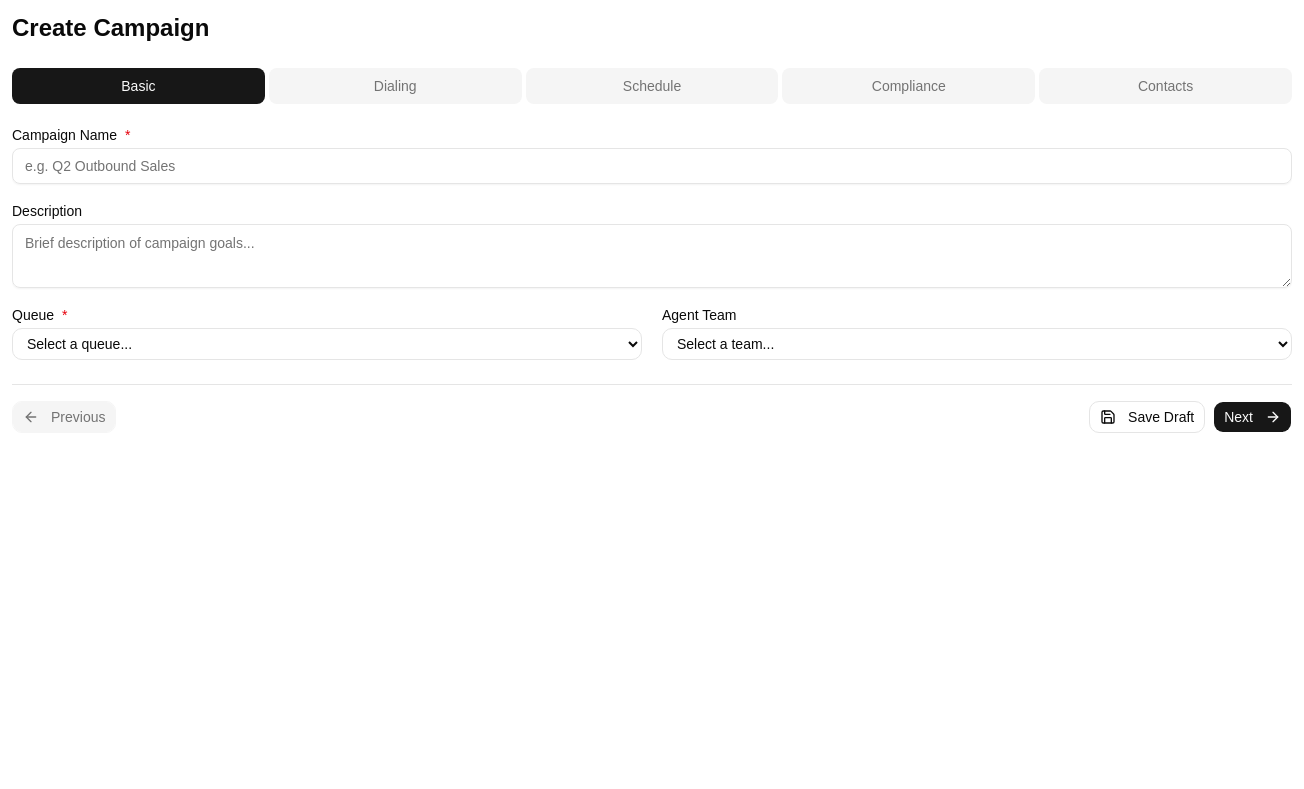
CampaignWizard target abandon rate in en-US › CampaignWizard_ShouldShowTheDialingStep_WhenTheDraftIsSavedFromAnEarlierStepWithAnInvalidAbandonRate
This screenshot has width=1304, height=789.
Step 1. Type "Q4 renewals" into the field labelled "Campaign Name *" → (652, 166), box [12,148,1292,184]
Step 2. Select "sales" in the dropdown labelled "Queue *" → (327, 344), box [12,328,642,360]
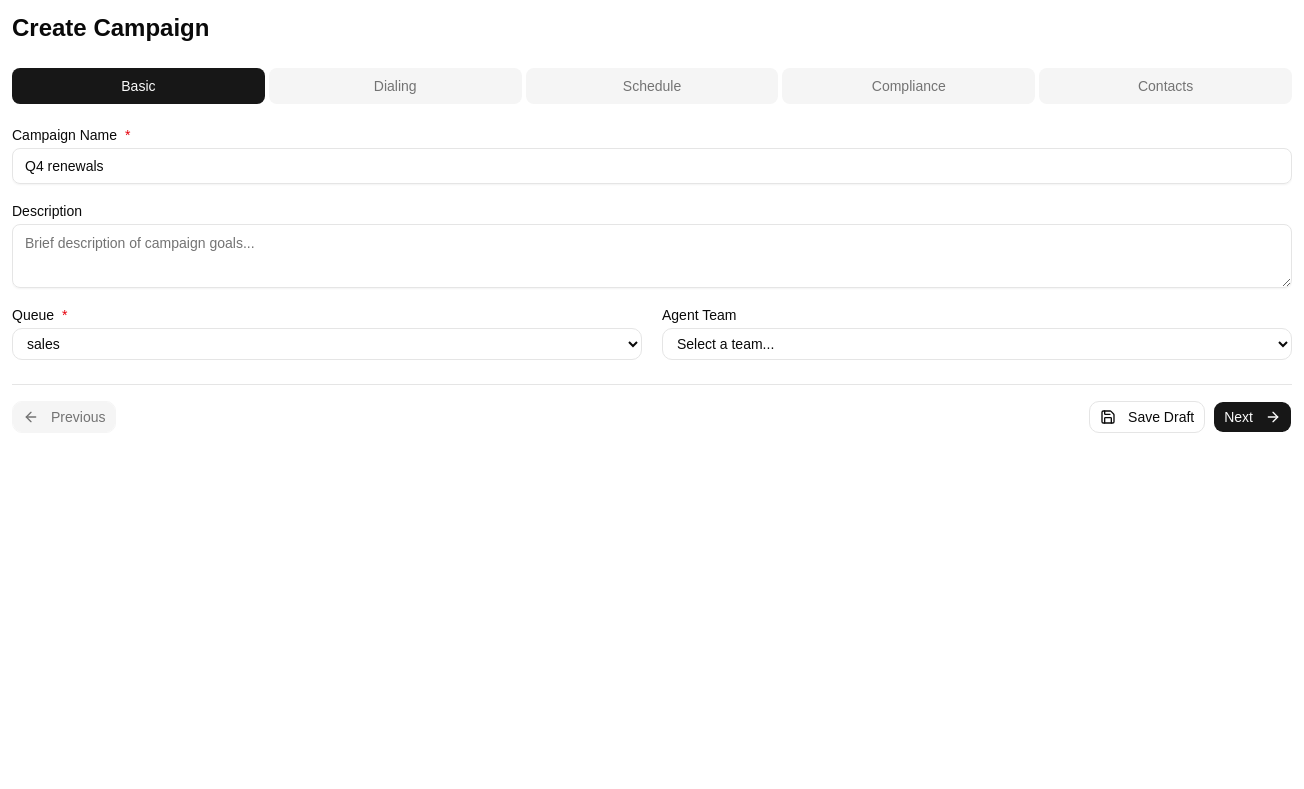
Step 3. Click the button with test id "campaign-wizard-next" → (1253, 417), box [1213,401,1292,433]
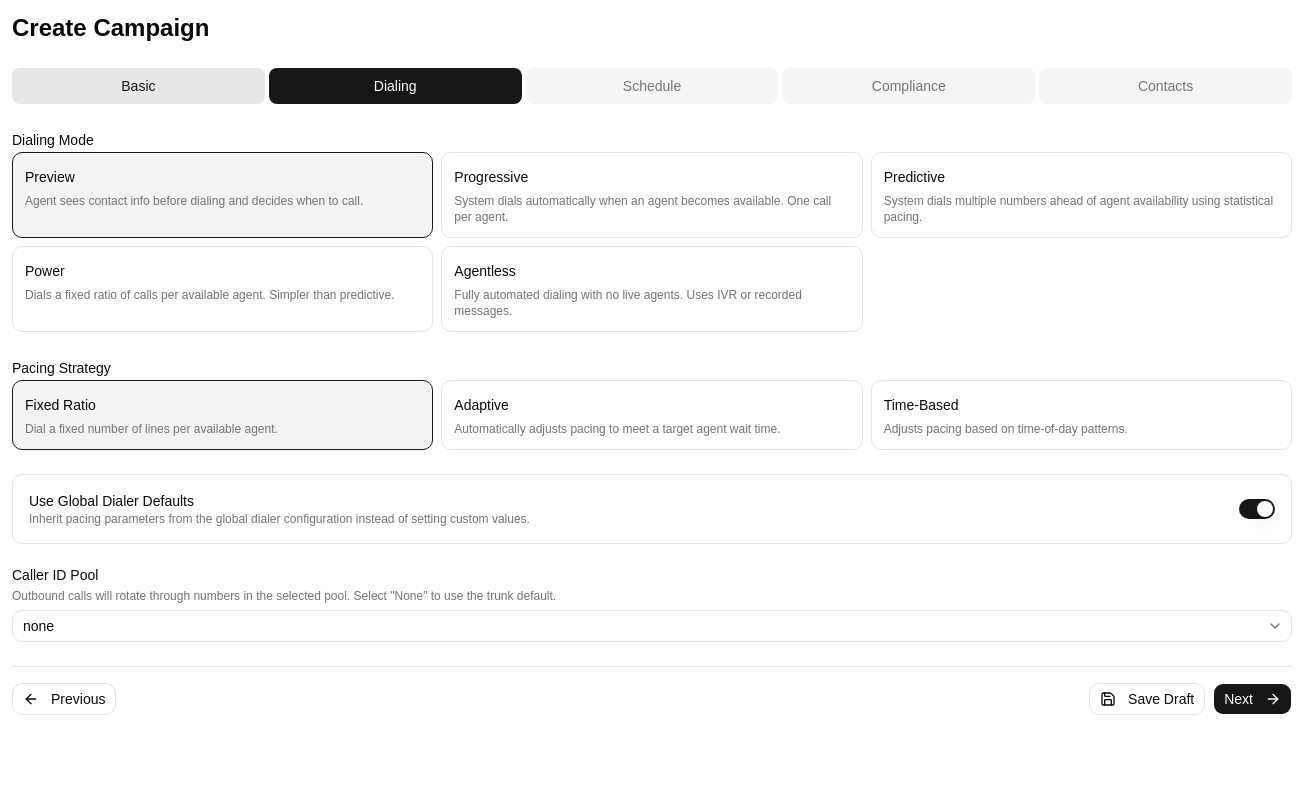
Step 4. Click the radio button that starts with "Predictive" → (1081, 195), box [871,152,1292,238]
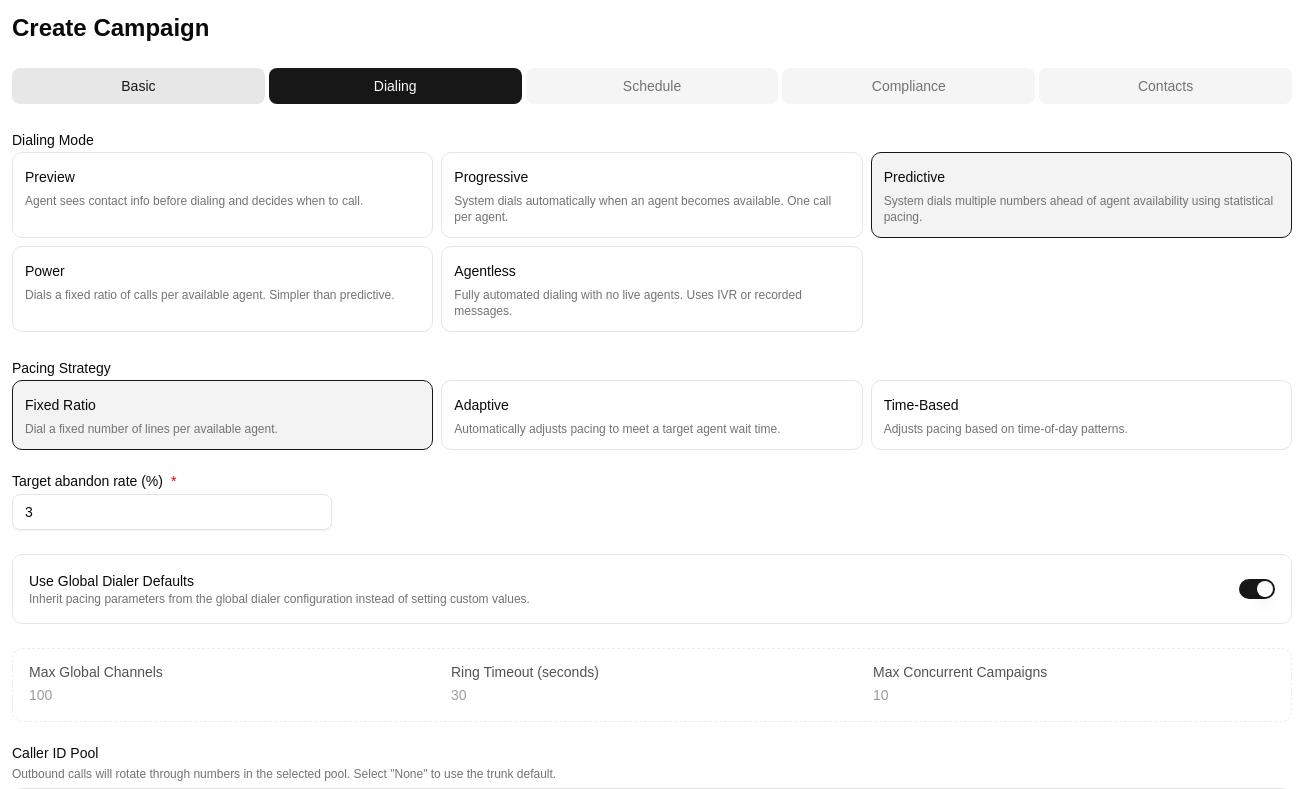
Step 5. Replace the text in the number field labelled "Target abandon rate (%) *" with "0.05" → (172, 512), box [12,494,332,530]
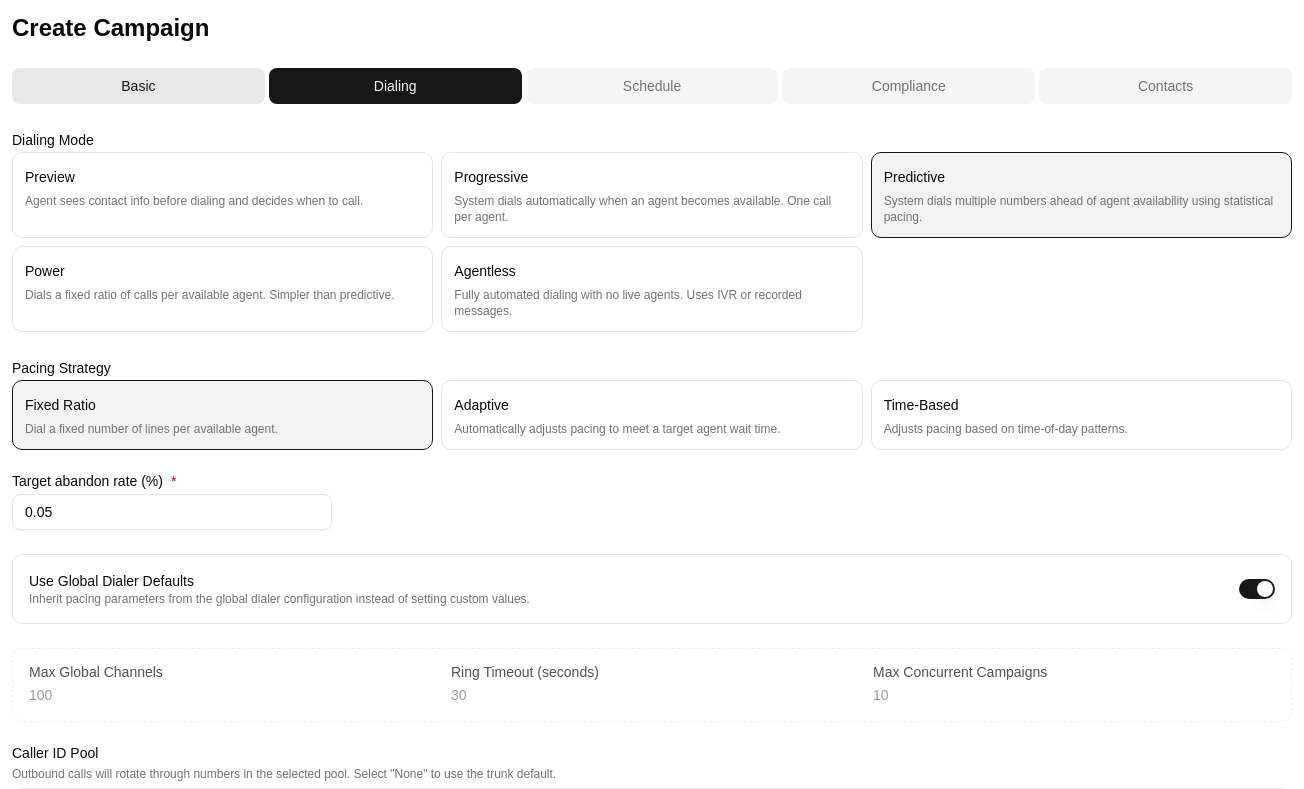
Step 6. Click the button "Basic" → (138, 86), box [12,68,265,104]
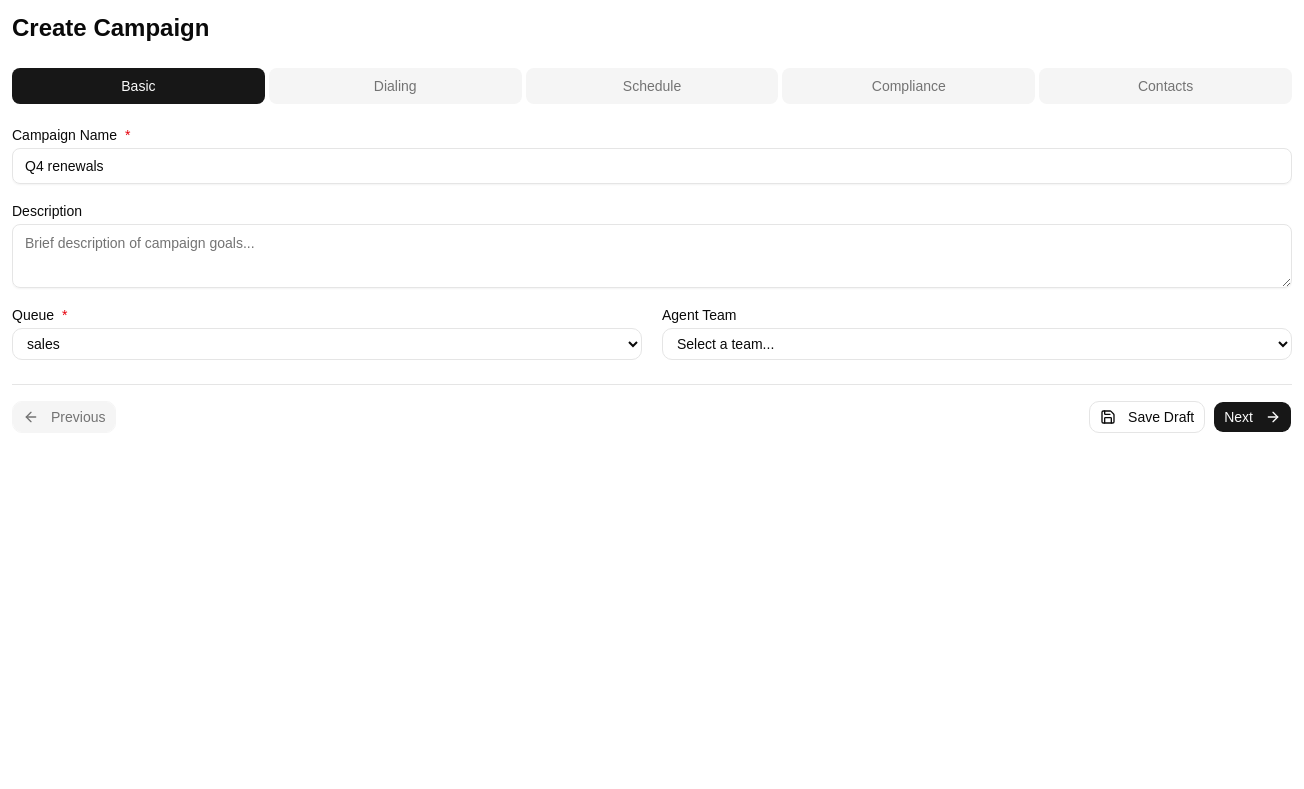
Step 7. Click the button with test id "campaign-wizard-save-draft" → (1147, 417), box [1089,401,1205,433]
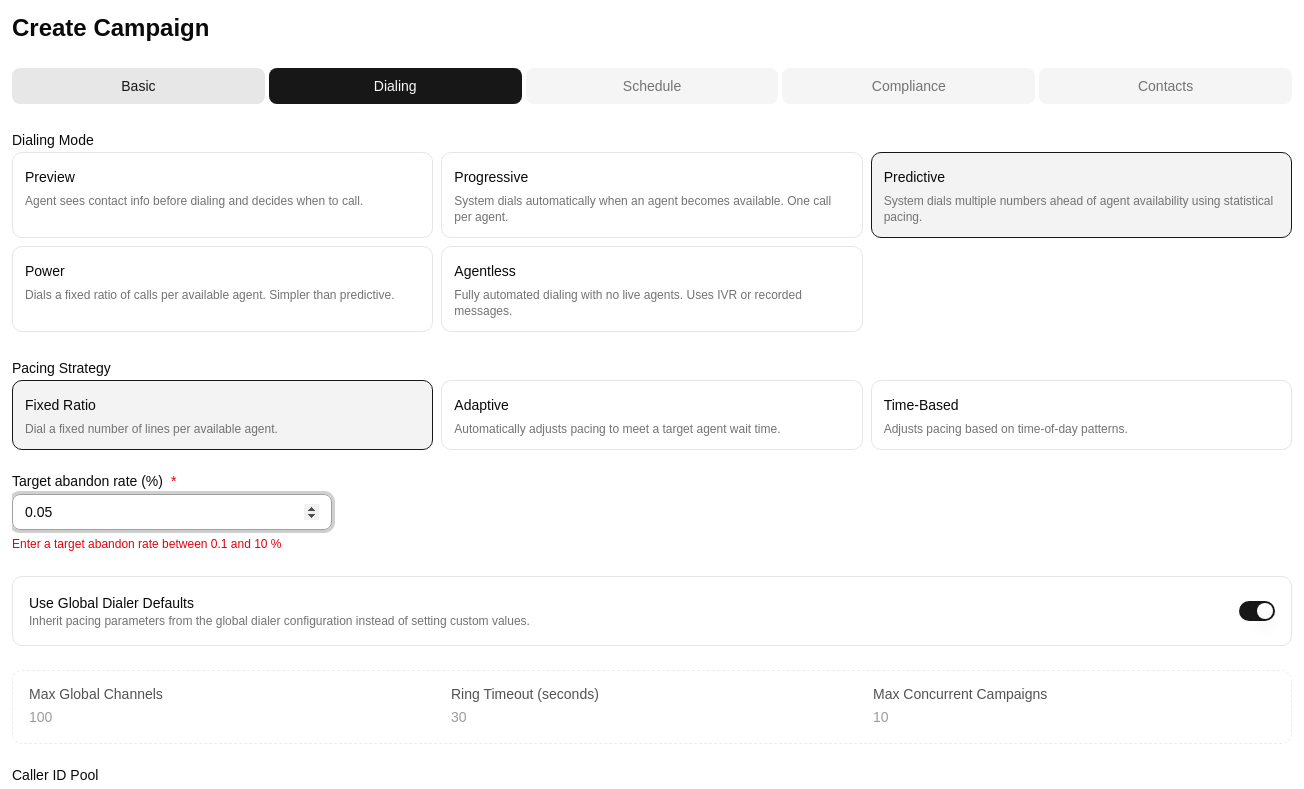
Expected: the message with test id "campaign-wizard-abandon-rate-error" reads "Enter a target abandon rate between 0.1 and 10 %", [12,537,282,551]
